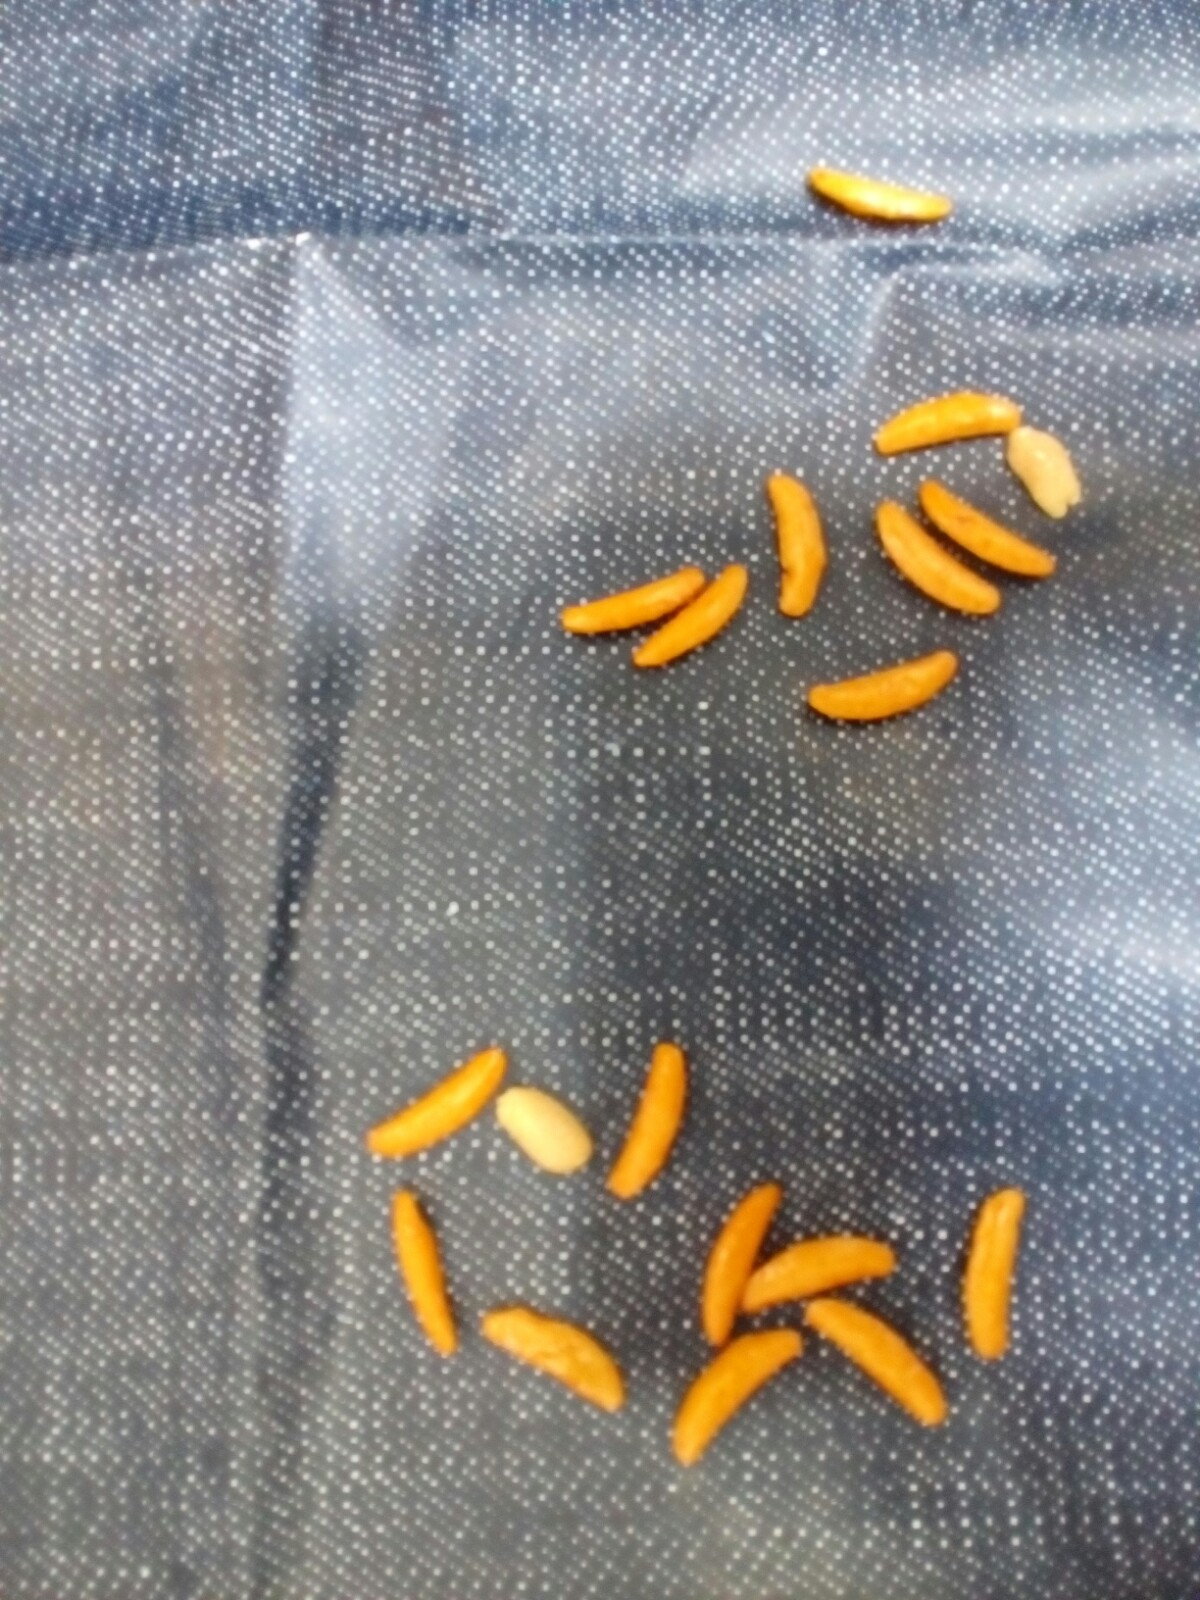peanut: (484, 1073, 608, 1196), (1001, 414, 1088, 533)
